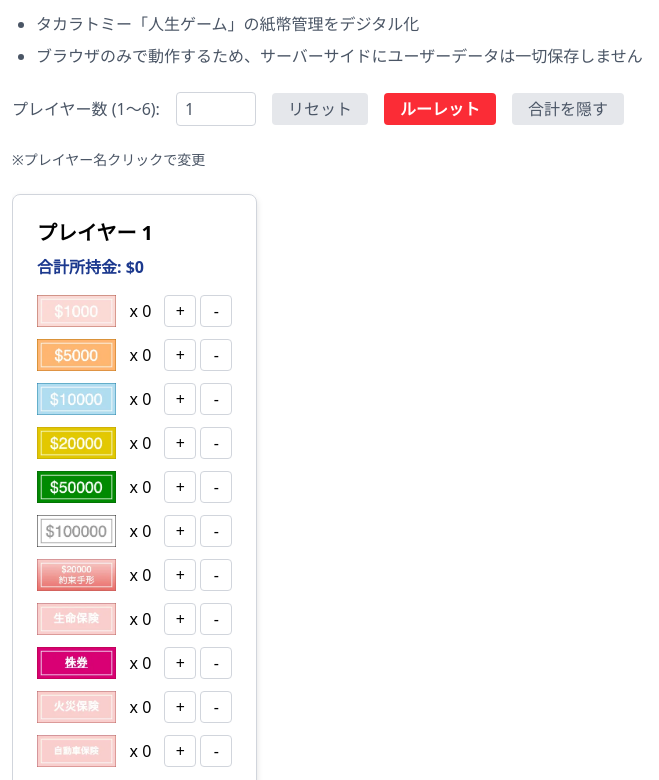
Scenario: MainContent › 各プレイヤーボードが正しく表示される
Replace the text in the number field labelled "プレイヤー数 (1～6):" with "2" at (216, 109), box [176,92,256,126]
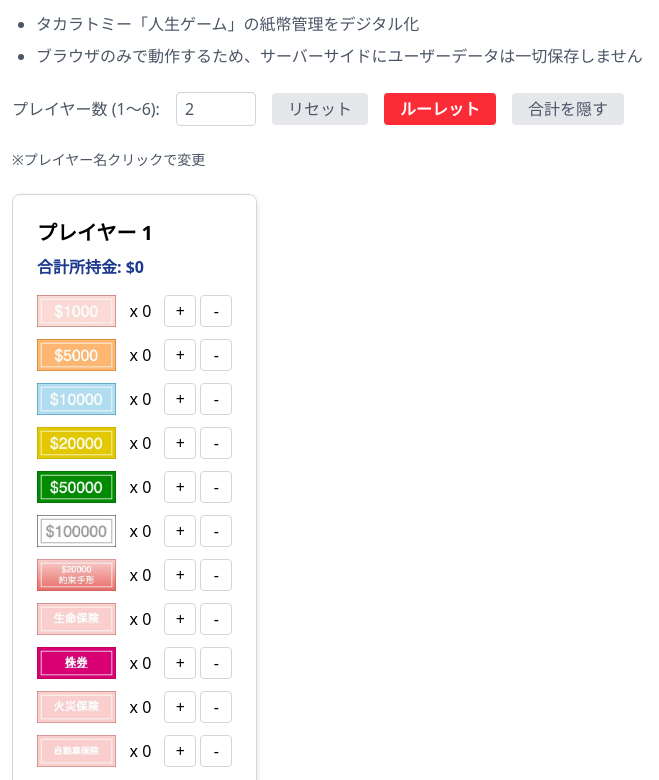
Click the button "リセット" at (320, 109), box [272,93,368,125]
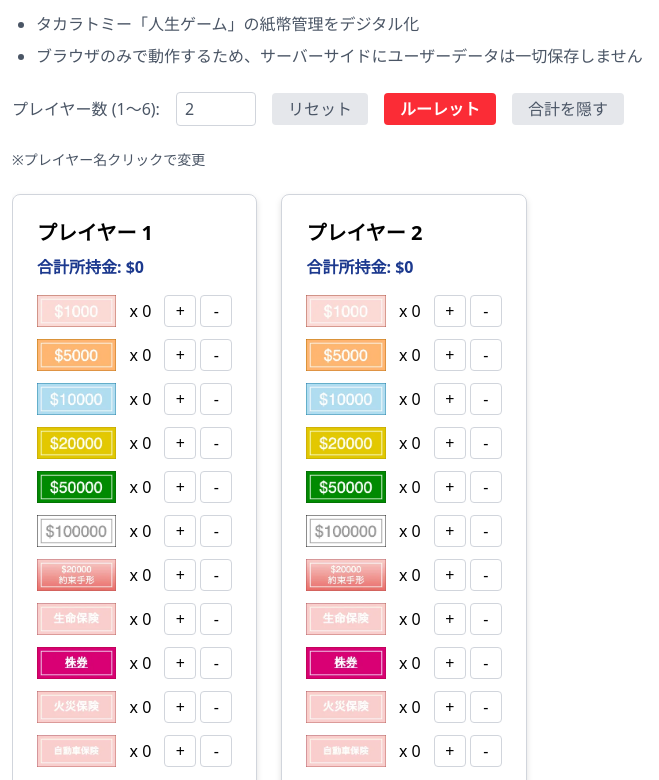
Result: the text "プレイヤー 1" is shown 2 times at [37,219,153,246]; [306,219,422,246]
Result: the text "合計所持金: $0" is shown 2 times at [37,256,144,278]; [306,256,413,278]
